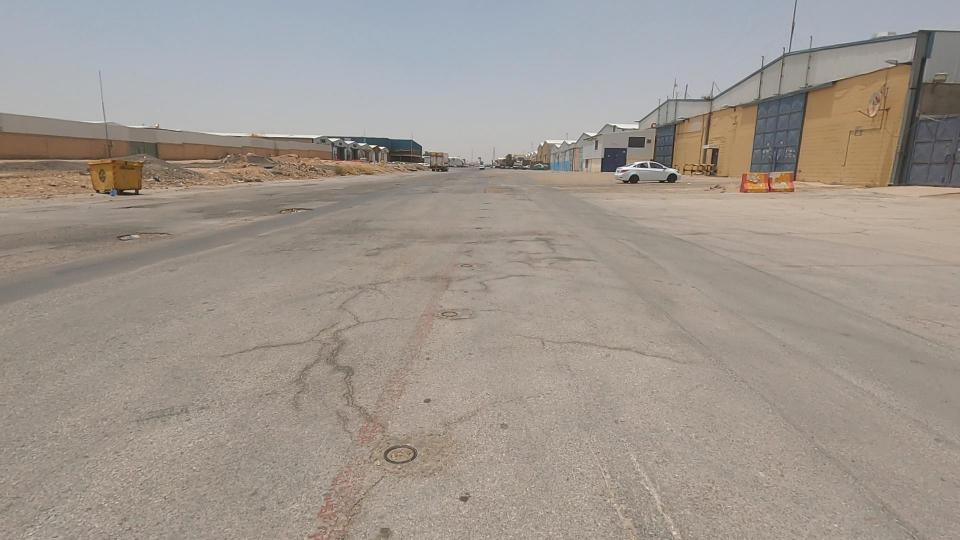POTHOLES: (254, 257, 407, 511), (435, 196, 625, 309), (66, 197, 221, 281), (234, 182, 357, 240), (447, 162, 557, 218)
